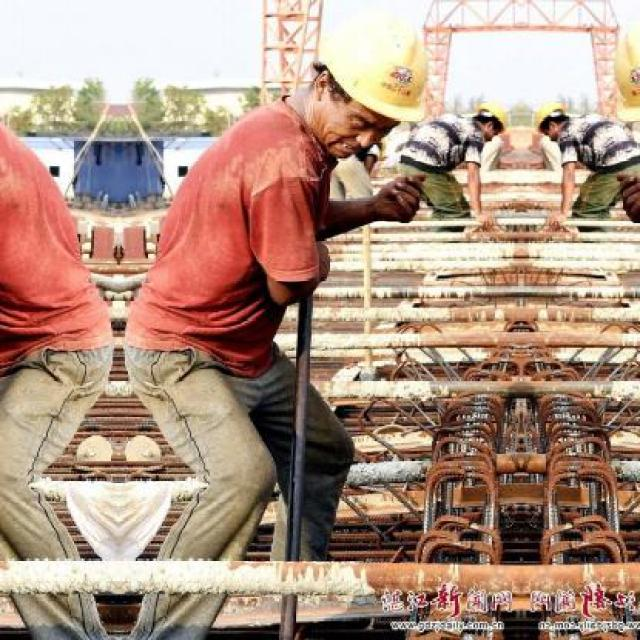helmet: (288, 2, 448, 162), (592, 2, 637, 163), (530, 98, 574, 142), (466, 98, 509, 142)
